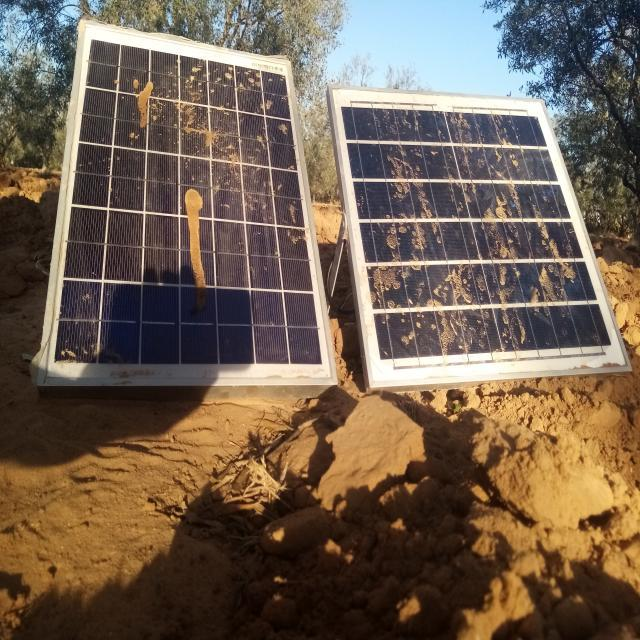faulty: (41, 19, 334, 384), (332, 89, 631, 383)
